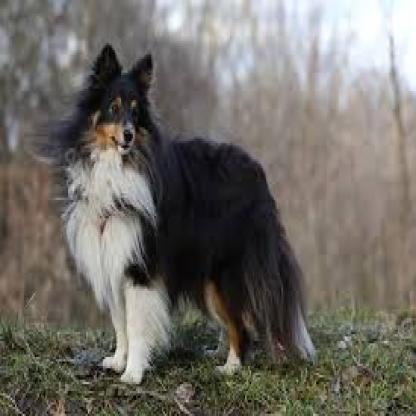Shetland sheepdog: (54, 38, 321, 360)
